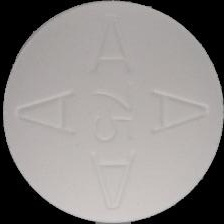21695-425: (0, 0, 224, 224)
